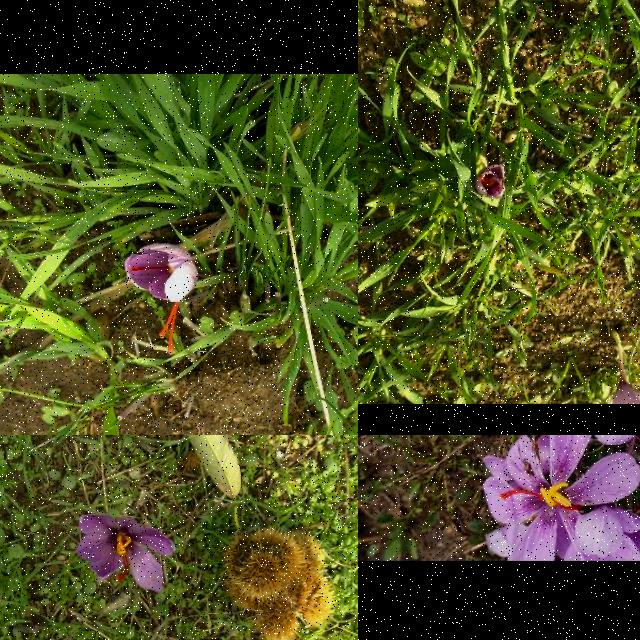flower: (125, 242, 198, 356), (76, 514, 176, 594), (475, 164, 507, 198)
overlap: (482, 435, 640, 561)
